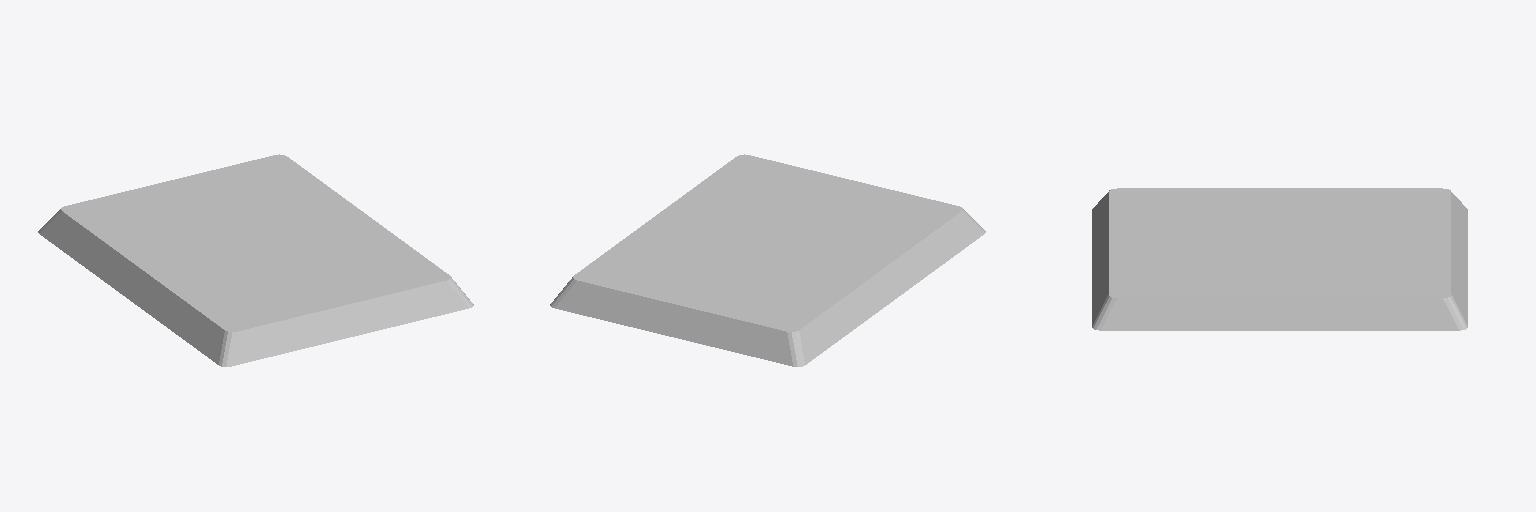
File: Sketchfab_2023_03_18_19_38_06.obj
3 renders of one model, left to right at view 1: azimuth 30°, elevation 25°; view 2: azimuth 150°, elevation 25°; view 3: azimuth 270°, elevation 25°, orthographic.
Parts seen in each view (by area): view 1: board_A; view 2: board_A; view 3: board_A.
Part boxes in pixels (bbox=[...]): board_A: bbox=[38, 154, 473, 366]; board_A: bbox=[550, 154, 985, 366]; board_A: bbox=[1092, 188, 1467, 330].
Bounding box in the file's own units: 0.4198 × 0.04 × 0.5385.